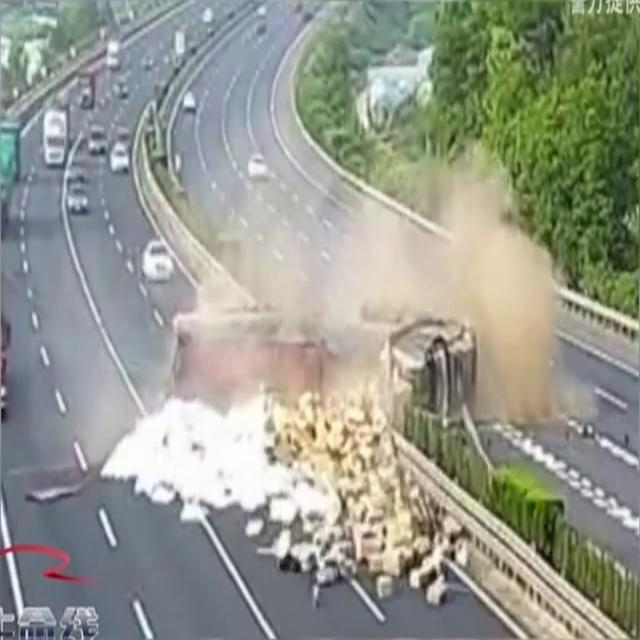normal: (37, 39, 140, 220)
single accident: (173, 279, 496, 429)
